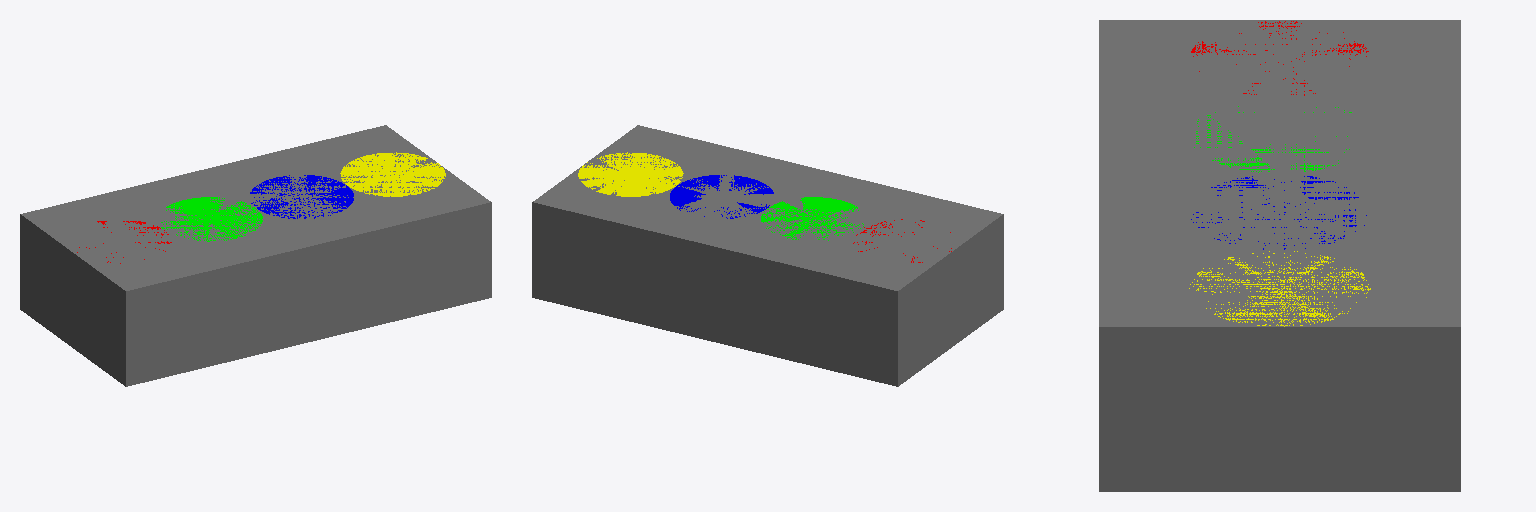
The robot description file, URDF, robot "buttons":
<?xml version="1.0" ?>
<robot name="buttons">
  <!-- Define the root link -->
  <link name="root">
    <visual>
      <geometry>
        <box size="0.4 0.2 0.1"/>
      </geometry>
      <material name="grey">
        <color rgba="0.5 0.5 0.5 1"/>
      </material>
    </visual>
  </link>
  
  <!-- Define the buttons -->
  <link name="record_button">
    <visual>
      <geometry>
        <cylinder length="0.1" radius="0.05"/>
      </geometry>
      <material name="red">
        <color rgba="1 0 0 1"/>
      </material>
    </visual>
    <collision>
      <geometry>
        <cylinder length="0.1" radius="0.05"/>
      </geometry>
    </collision>
    <origin xyz="-0.15 0 0" rpy="0 0 0"/>
  </link>
  <link name="play_button">
    <visual>
      <geometry>
        <cylinder length="0.1" radius="0.05"/>
      </geometry>
      <material name="green">
        <color rgba="0 1 0 1"/>
      </material>
    </visual>
    <collision>
      <geometry>
        <cylinder length="0.1" radius="0.05"/>
      </geometry>
    </collision>
    <origin xyz="-0.05 0 0" rpy="0 0 0"/>
  </link>
  <link name="stop_button">
    <visual>
      <geometry>
        <cylinder length="0.1" radius="0.05"/>
      </geometry>
      <material name="blue">
        <color rgba="0 0 1 1"/>
      </material>
    </visual>
    <collision>
      <geometry>
        <cylinder length="0.1" radius="0.05"/>
      </geometry>
    </collision>
    <origin xyz="0.05 0 0" rpy="0 0 0"/>
  </link>
  <link name="pause_button">
    <visual>
      <geometry>
        <cylinder length="0.1" radius="0.05"/>
      </geometry>
      <material name="yellow">
        <color rgba="1 1 0 1"/>
      </material>
    </visual>
    <collision>
      <geometry>
        <cylinder length="0.1" radius="0.05"/>
      </geometry>
    </collision>
    <origin xyz="0.15 0 0" rpy="0 0 0"/>
  </link>

  <!-- Joints to connect the root link and the buttons -->
  <joint name="record_to_root" type="fixed">
    <parent link="root"/>
    <child link="record_button"/>
    <origin xyz="-0.15 0 0" rpy="0 0 0"/>
  </joint>
    <joint name="play_to_root" type="fixed">
        <parent link="root"/>
        <child link="play_button"/>
        <origin xyz="-0.05 0 0" rpy="0 0 0"/>
    </joint>
    <joint name="stop_to_root" type="fixed">
        <parent link="root"/>
        <child link="stop_button"/>
         <origin xyz="0.05 0 0" rpy="0 0 0"/>
    </joint>
    <joint name="pause_to_root" type="fixed">
        <parent link="root"/>
        <child link="pause_button"/>^
        <origin xyz="0.15 0 0" rpy="0 0 0"/>
    </joint>
</robot>

--- Render facts (derived) ---
3 views of the same robot in one strip: view 1: azimuth 30°, elevation 25°; view 2: azimuth 150°, elevation 25°; view 3: azimuth 270°, elevation 25° (orthographic).
Model buttons with 5 links and 4 joints (4 fixed), rooted at root, posed every joint at zero.
Links seen in each view (by area): view 1: root, pause_button, play_button, stop_button; view 2: root, pause_button, play_button, stop_button; view 3: root, pause_button, stop_button, play_button.
Link boxes in pixels (x1,y1,x2,y2): root: (20, 125, 491, 386); pause_button: (340, 152, 445, 196); play_button: (161, 197, 262, 241); stop_button: (250, 175, 353, 218); root: (532, 125, 1003, 386); pause_button: (578, 152, 683, 196); play_button: (761, 197, 863, 240); stop_button: (670, 175, 773, 218); root: (1099, 20, 1460, 491); pause_button: (1189, 251, 1370, 326); stop_button: (1191, 176, 1366, 249); play_button: (1194, 106, 1351, 172).
Size in the robot's own frame: 0.4 by 0.2 by 0.1 metres.
Geometry: primitives only (box / cylinder / sphere), no mesh files.